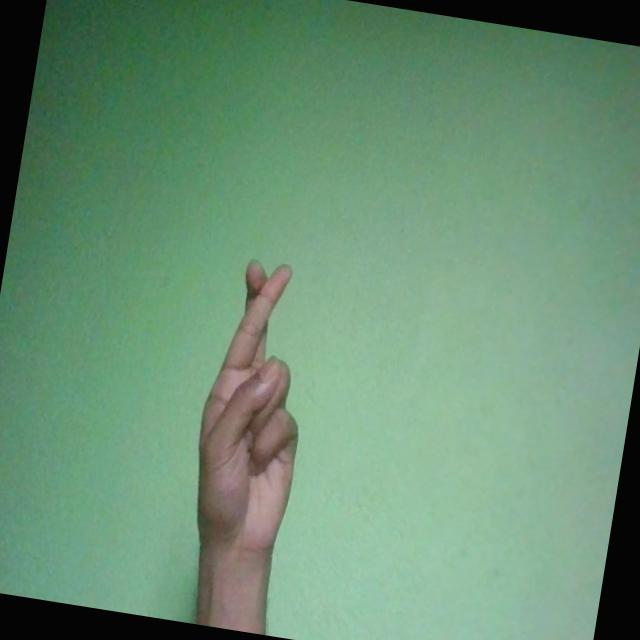Ok: (181, 254, 326, 565)
